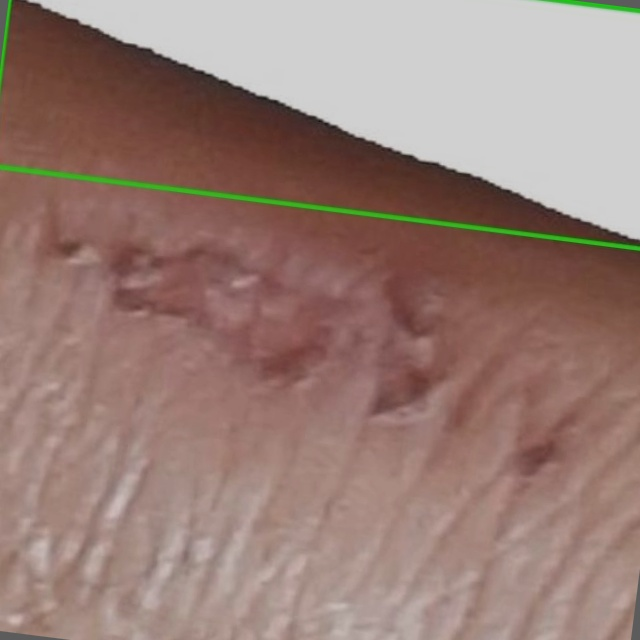Atopic Dermatitis: (0, 0, 639, 247)
